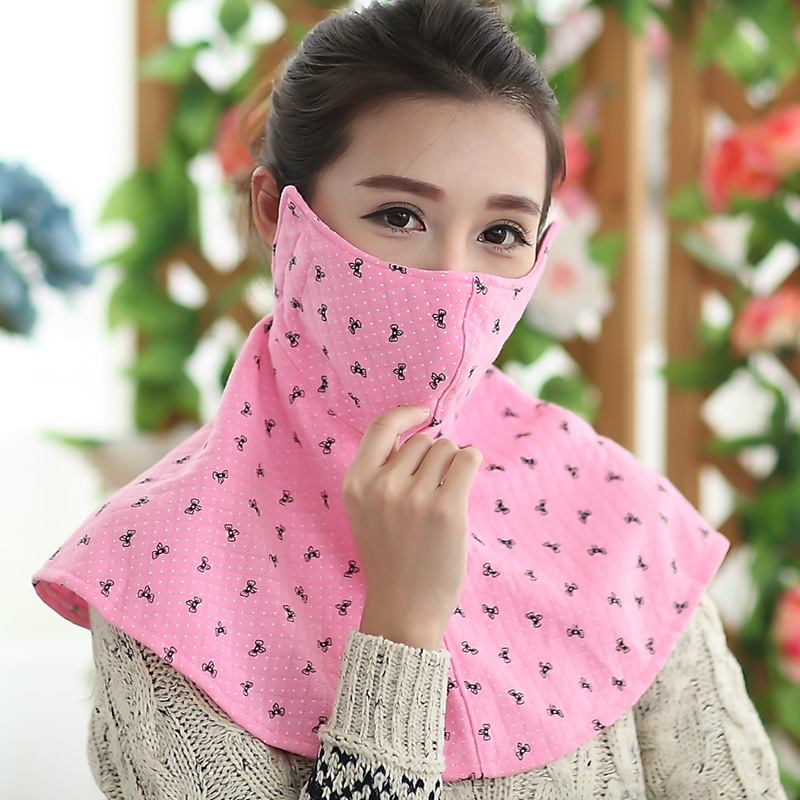face_mask: (303, 100, 548, 400)
